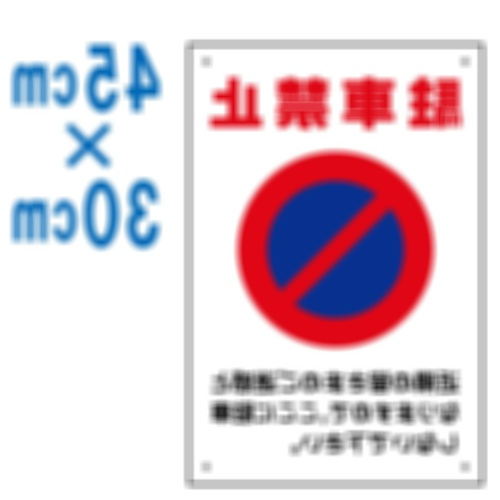Prohibition_sign: (224, 156, 454, 371)
